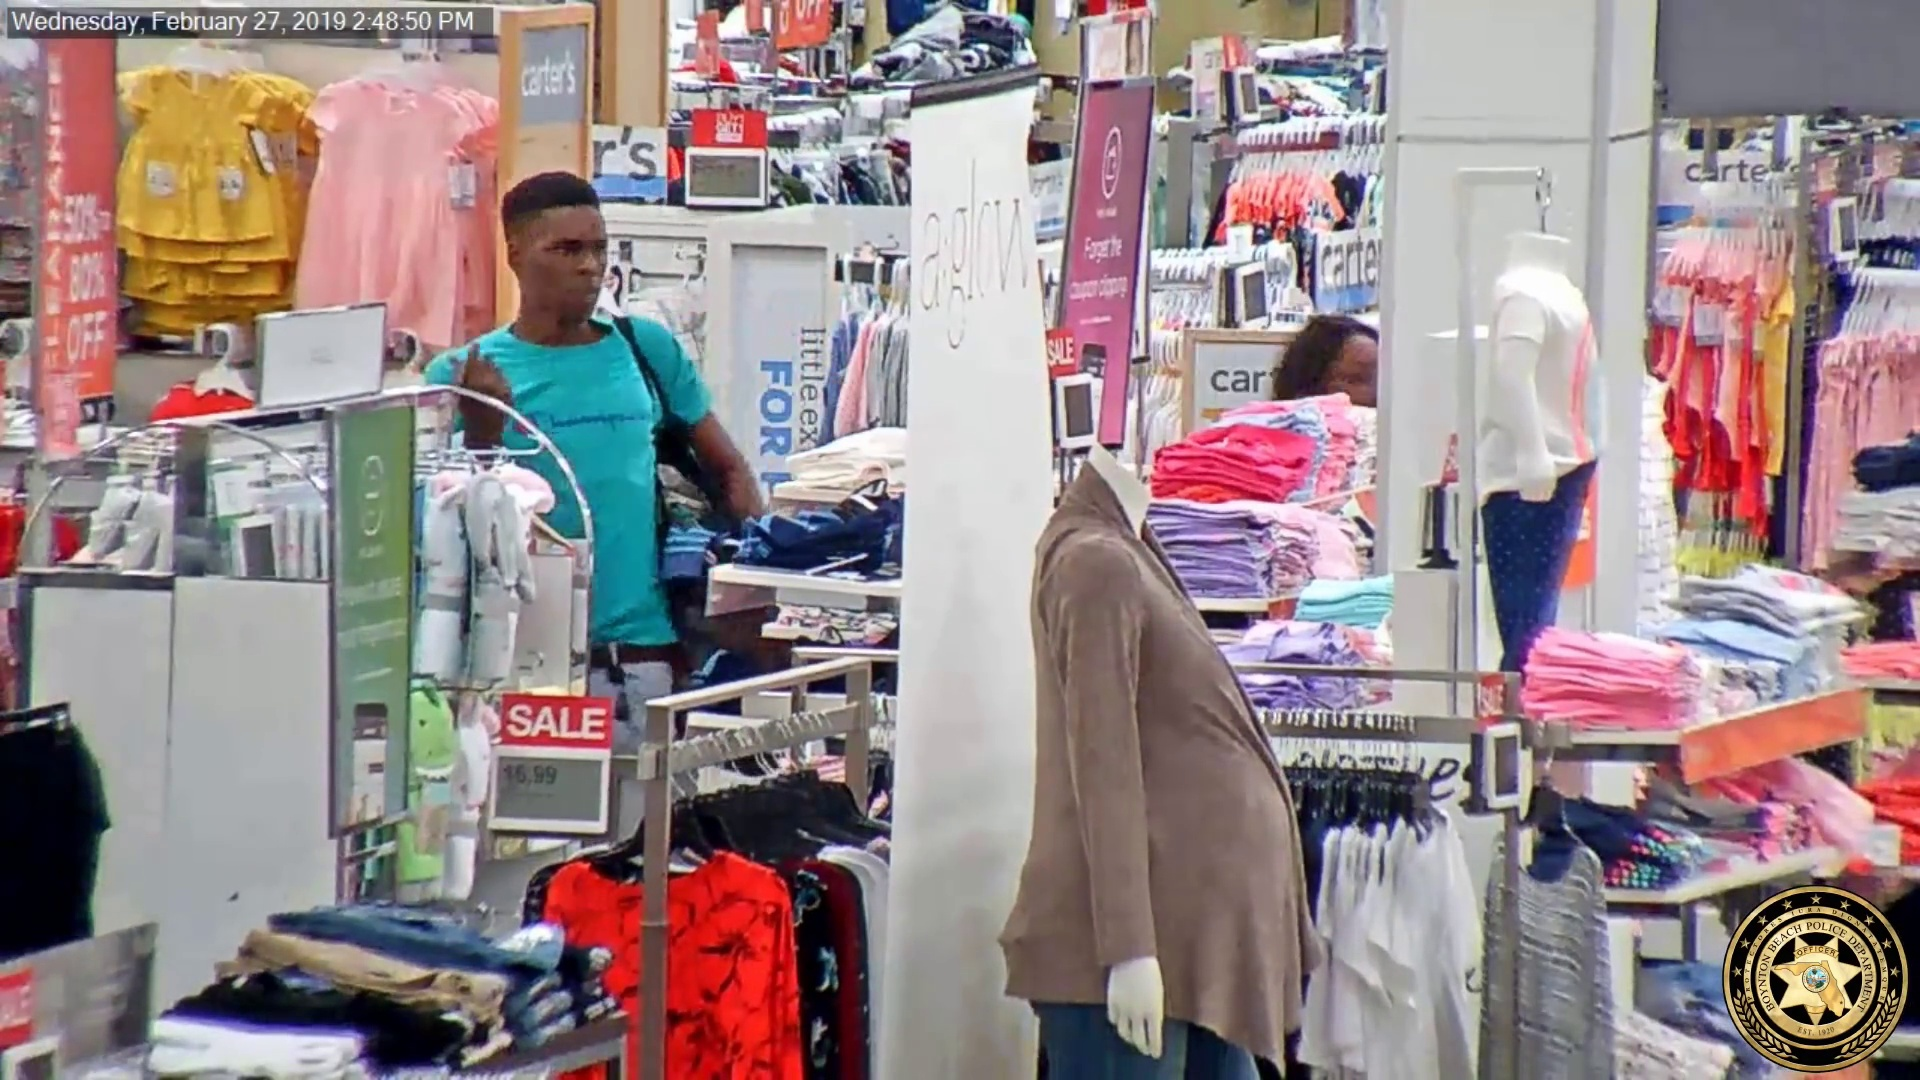face: (512, 201, 616, 333)
